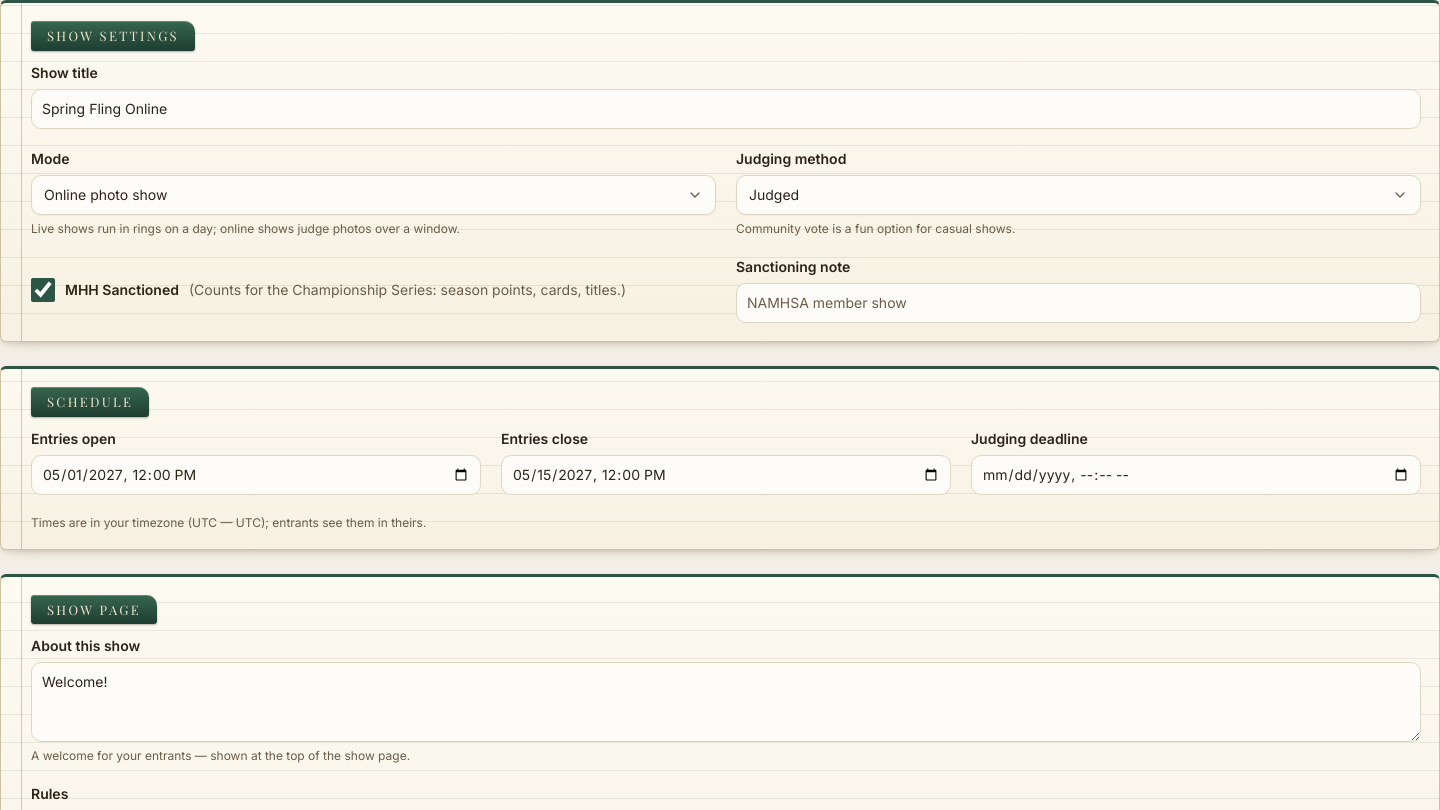
Test: ShowSettingsForm — draft locks and saving › saves a title edit as a one-field patch and toasts
Replace the text in the field showing "Spring Fling Online" with "Autumn Gala Online" at (726, 109), box [31,89,1421,129]
(page scrolled)
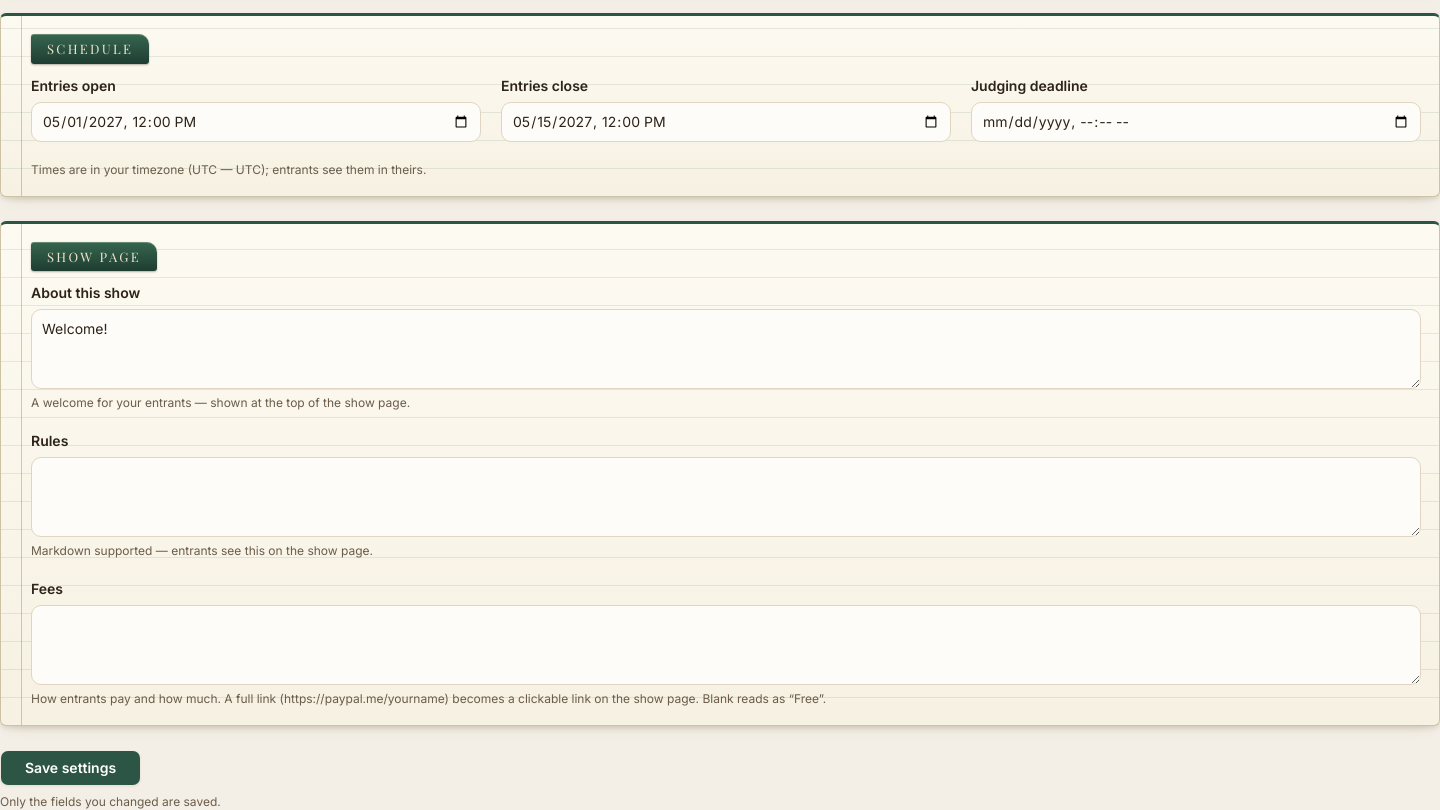
Click the button with test id "settings-save" at (71, 768), box [0,750,141,786]
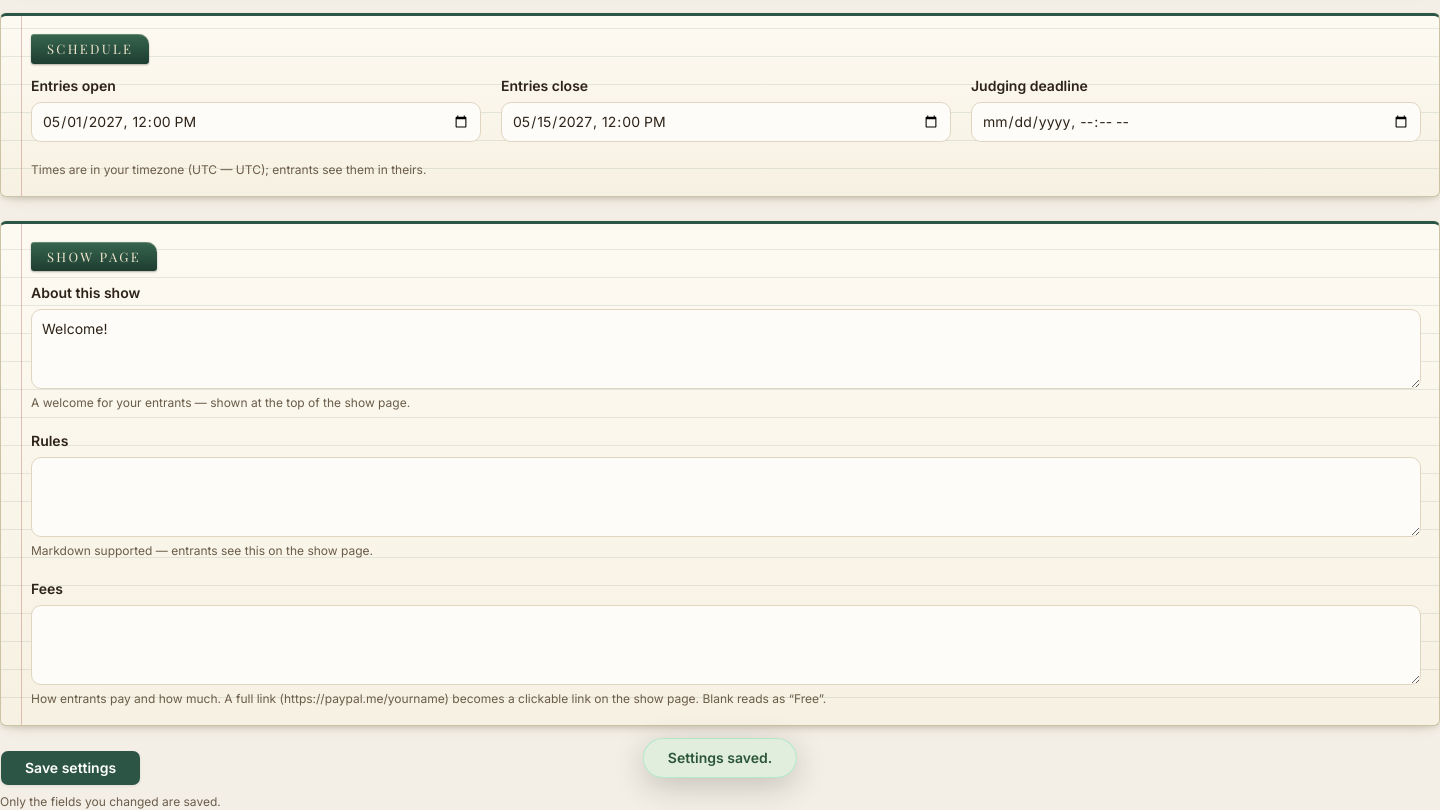
Expected: the text "Settings saved." is shown, [643,738,797,778]
